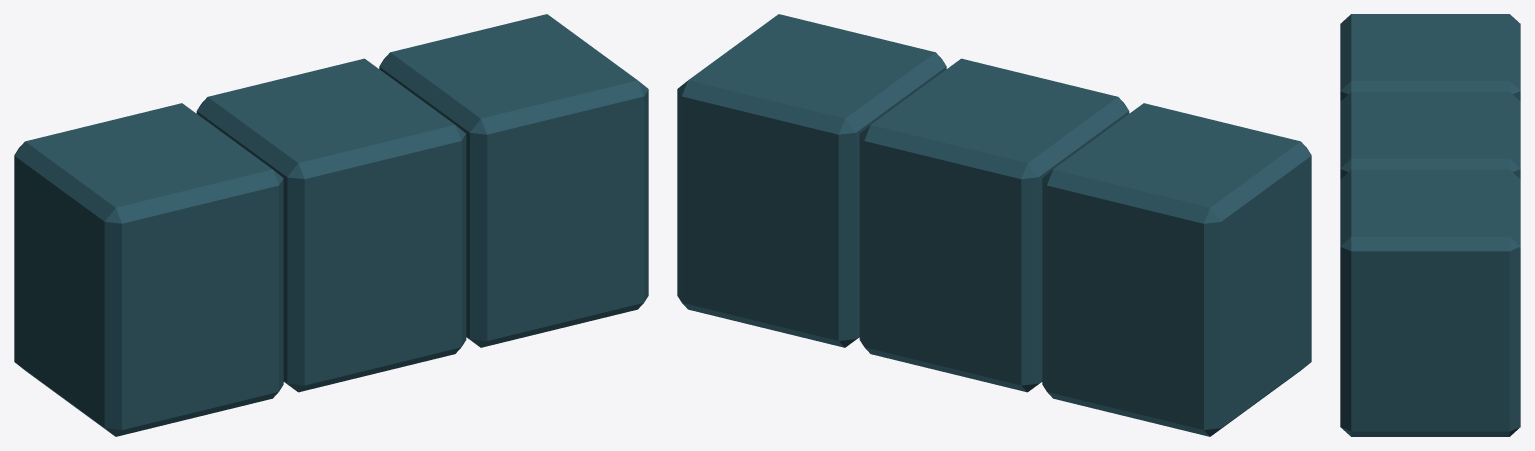
Rendered from WallBlock.fbx.
3 views of the same model, side by side, from view 1: azimuth 30°, elevation 25°; view 2: azimuth 150°, elevation 25°; view 3: azimuth 270°, elevation 25° (orthographic). The views are drawn at different scales.
Parts seen in each view (by area): view 1: WallBlock; view 2: WallBlock; view 3: WallBlock.
Boxes of the visible parts, <box> form: WallBlock: <box>14,14,648,436</box>; WallBlock: <box>677,14,1311,436</box>; WallBlock: <box>1340,14,1520,436</box>.
Bounding box in the file's own units: 2.98 × 0.98 × 1.2.
